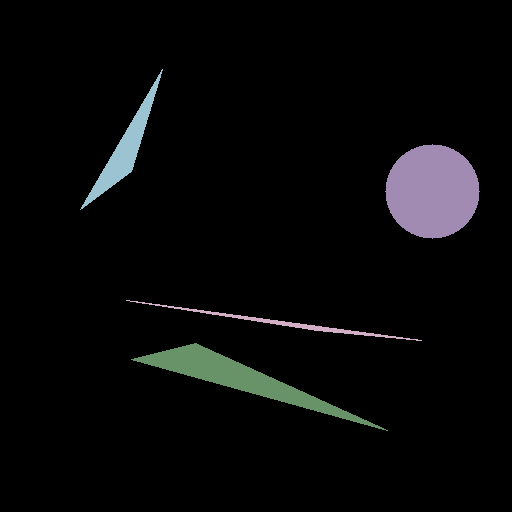circle: (385, 144, 479, 238)
triangle: (131, 343, 387, 430), (80, 69, 162, 209)
